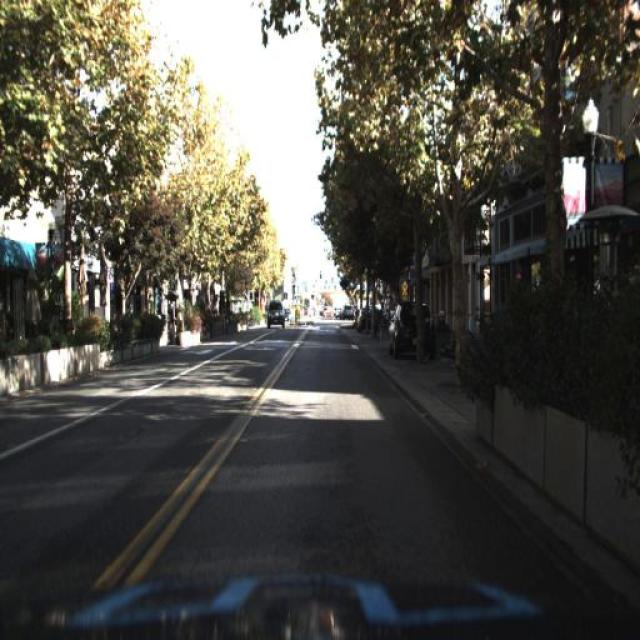car: (385, 301, 434, 363), (261, 293, 287, 333), (264, 298, 282, 328)
